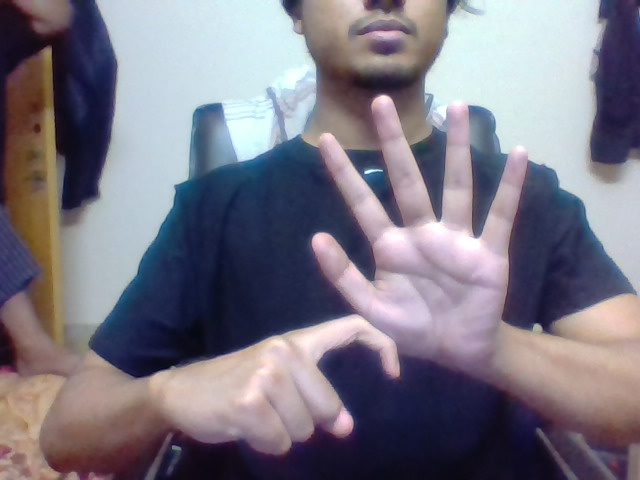R: (274, 306, 403, 444)
